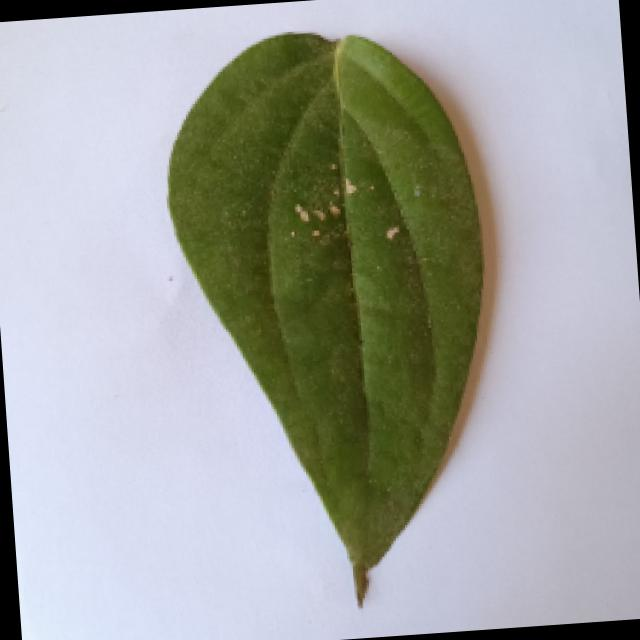pollu-disease: (153, 19, 502, 610)
